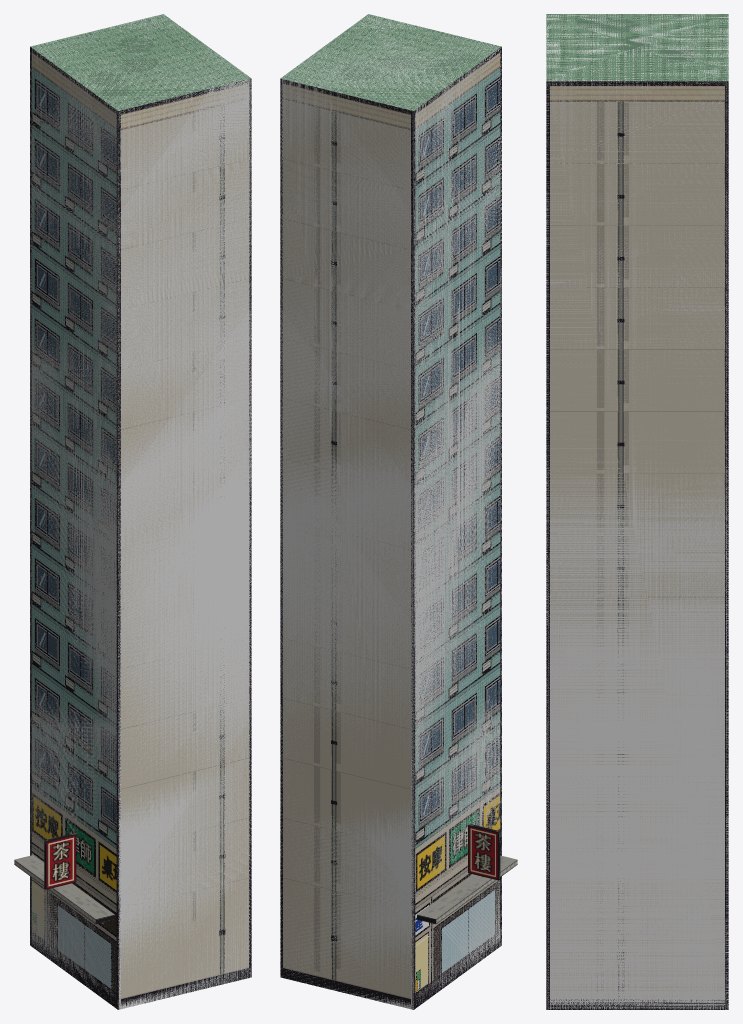
3 views of the same model, side by side, from view 1: azimuth 30°, elevation 25°; view 2: azimuth 150°, elevation 25°; view 3: azimuth 270°, elevation 25° (orthographic). The views are drawn at different scales.
Visible parts, largest first — view 1: 19D-E17, COL_19D-E17_0; view 2: 19D-E17, COL_19D-E17_0; view 3: 19D-E17, COL_19D-E17_0.
Part boxes in pixels (<box>): 19D-E17: <box>14,14,251,1009</box>; COL_19D-E17_0: <box>30,14,251,1009</box>; 19D-E17: <box>280,14,517,1009</box>; COL_19D-E17_0: <box>280,14,501,1009</box>; 19D-E17: <box>546,14,728,1009</box>; COL_19D-E17_0: <box>546,14,728,1009</box>.
Size of the model in its own units: 8.85 by 45 by 8.
1 material, 1 textured.
